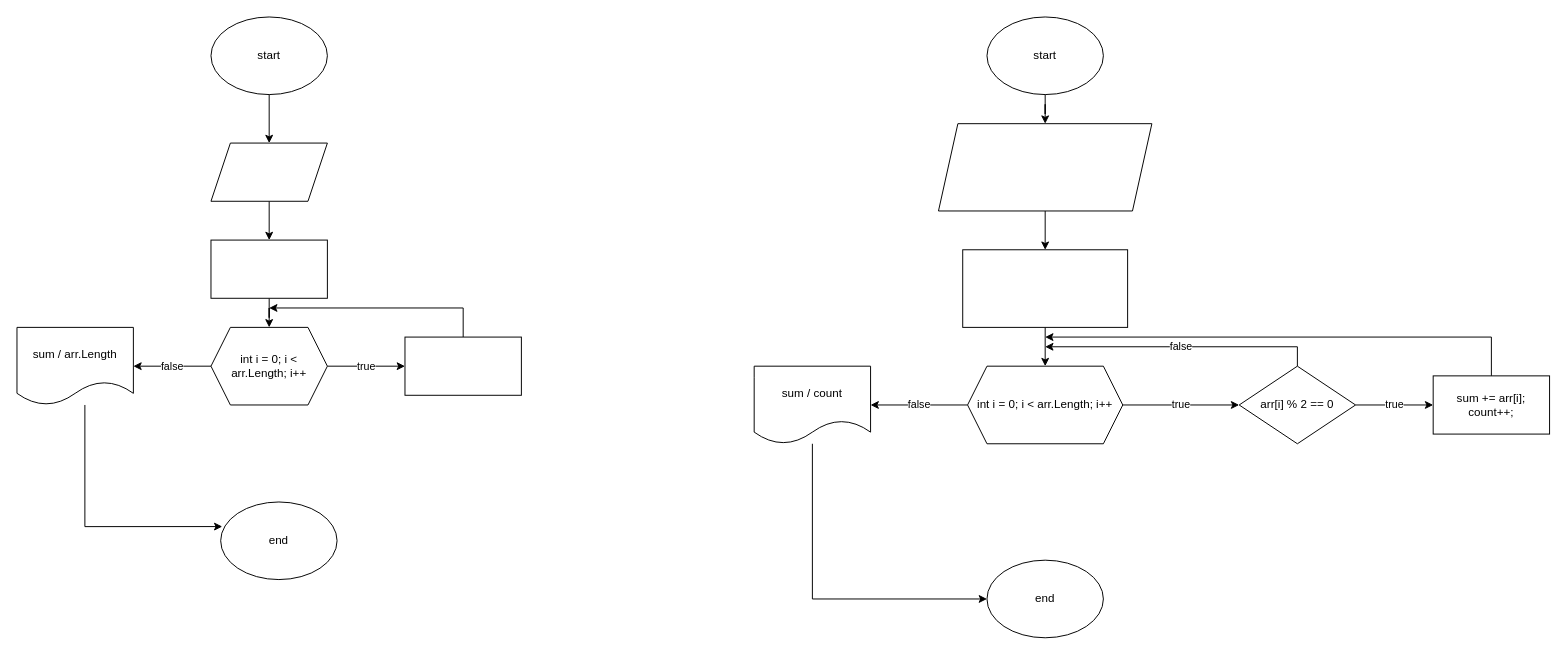
Image size: 1567x655. Some labels were removed from this diagram. The centre of each missing label's shape, as x and y in pixels:
int sum = 0;: pixel 268 268
int sum = 0; int count = 0;: pixel 1045 288
int[] arr = {1,2,3,4,5};: pixel 1045 167
int[] arr = {1,2,3,4};: pixel 268 171
sum += arr[i];: pixel 462 365
